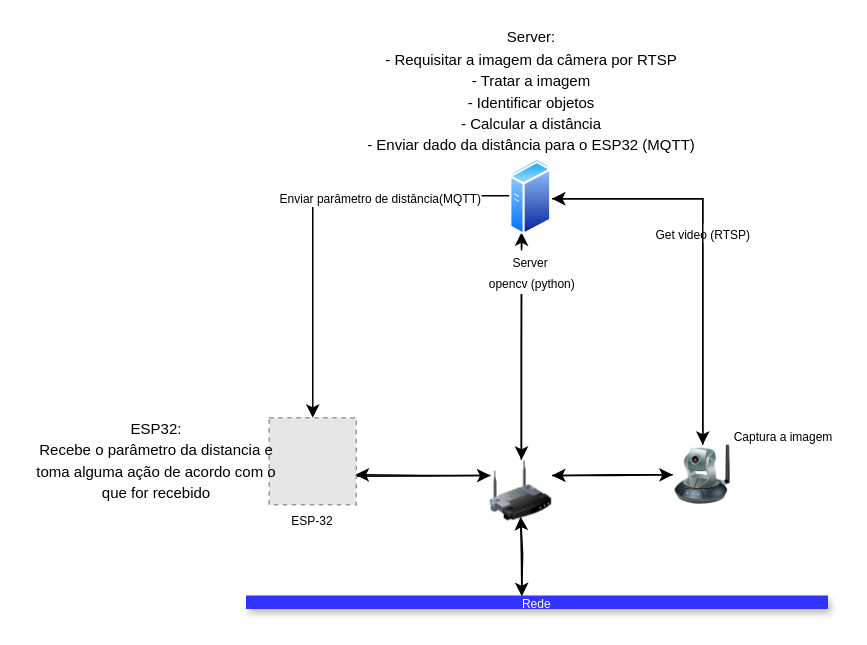
This 867x645 diagram has some shape labels left out. Grey dashed boxes stand in for pictures. Here are the shapes that lost their labels. From the top down, the centre of each, then its label:
At [520,490]: "Roteador".
At [702,474]: "Camera".
